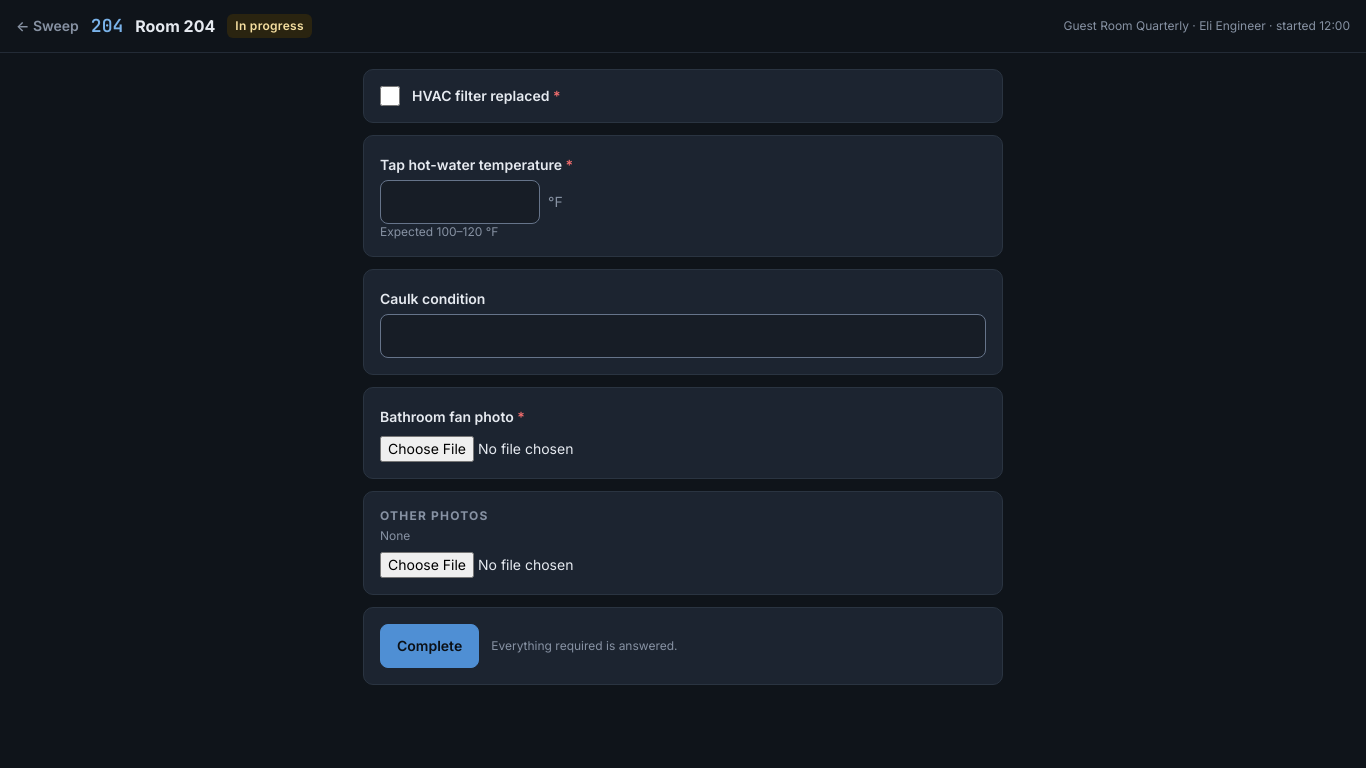
Scenario: RunPage › enables Complete once nothing is missing and posts it
Click the button "Complete". click: coordinates (430, 646)
box: [380, 624, 479, 668]
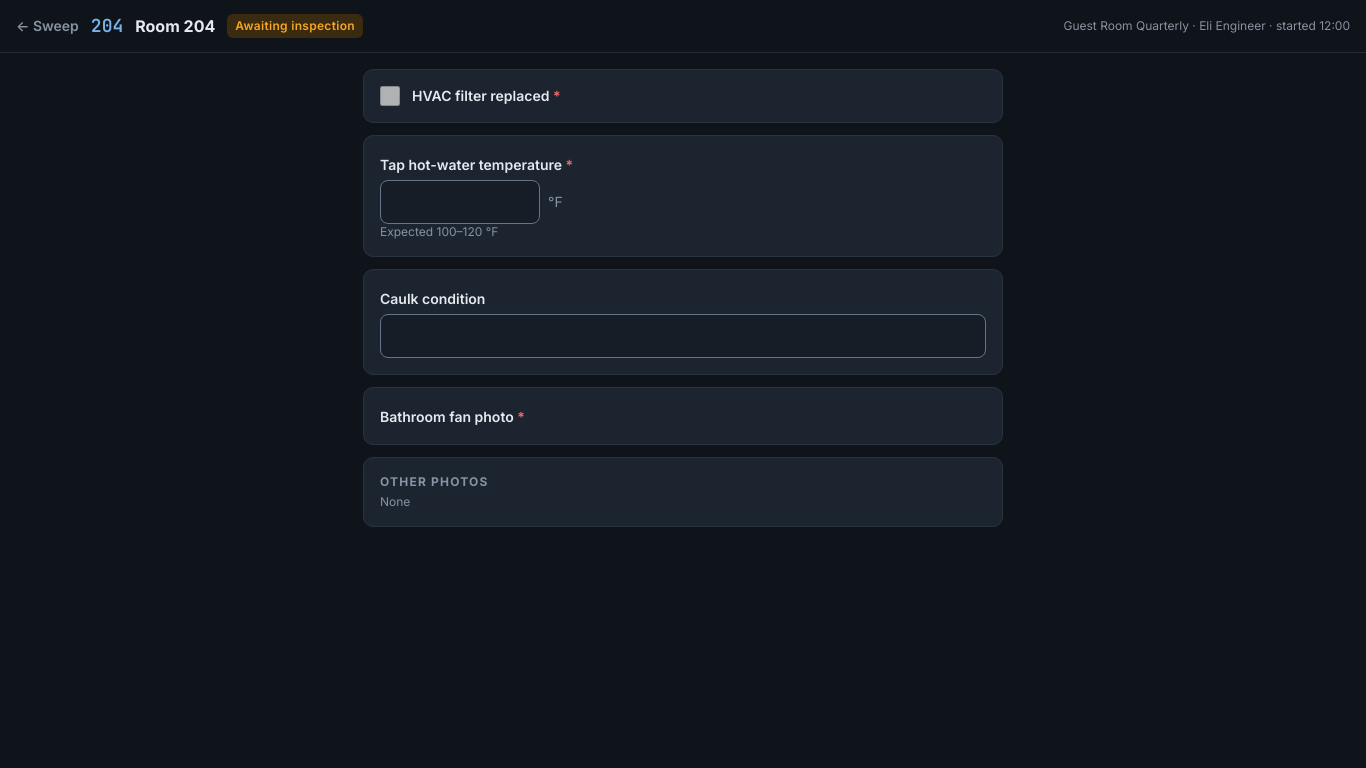
Result: the text "Awaiting inspection" is shown at [227, 14, 363, 38]
